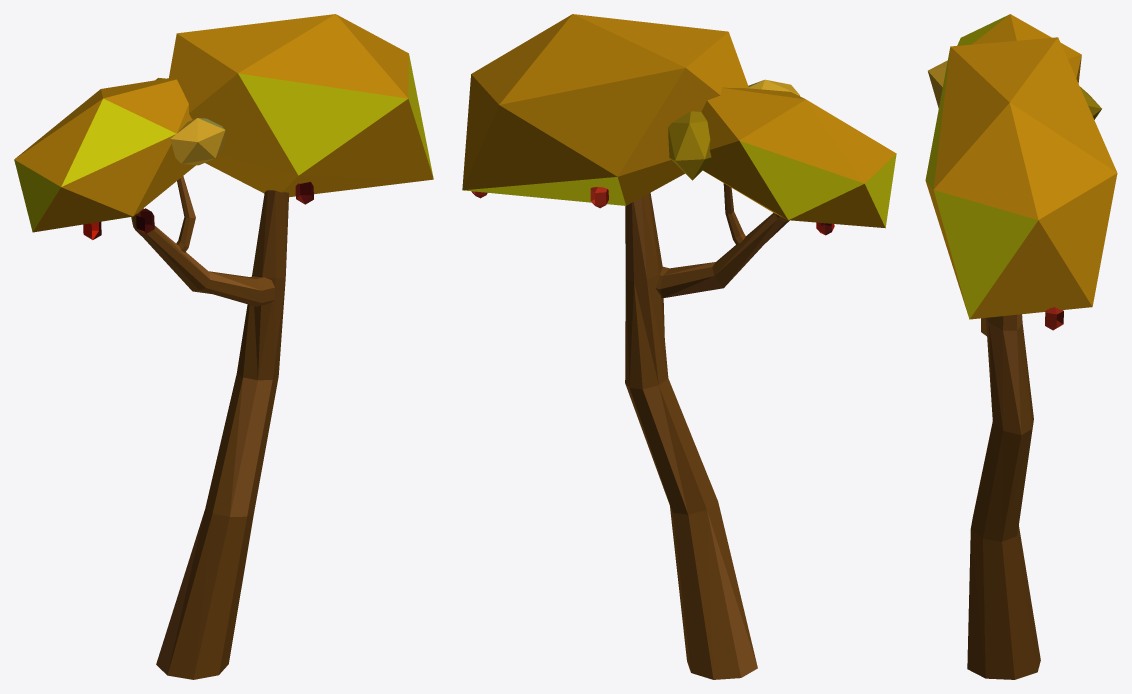
The model's file is LowPolyTree01-Level02.fbx.
3 renders of one model, left to right at view 1: azimuth 30°, elevation 25°; view 2: azimuth 150°, elevation 25°; view 3: azimuth 270°, elevation 25°, orthographic. The views are drawn at different scales.
Visible parts, largest first — view 1: Icosphere.001; view 2: Icosphere.001; view 3: Icosphere.001.
Part boxes in pixels (box(x1,y1,x2,y2)): Icosphere.001: box(14, 14, 433, 679); Icosphere.001: box(462, 14, 896, 679); Icosphere.001: box(925, 14, 1117, 679).
Bounding box in the file's own units: 411 × 611 × 167.
